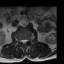CCS_normal: (23, 37, 25, 46)
LFS_stenosis: (27, 37, 29, 43)
LLS_normal: (25, 37, 27, 44)
RFS_normal: (19, 37, 21, 43)
RLS_normal: (21, 37, 23, 44)
